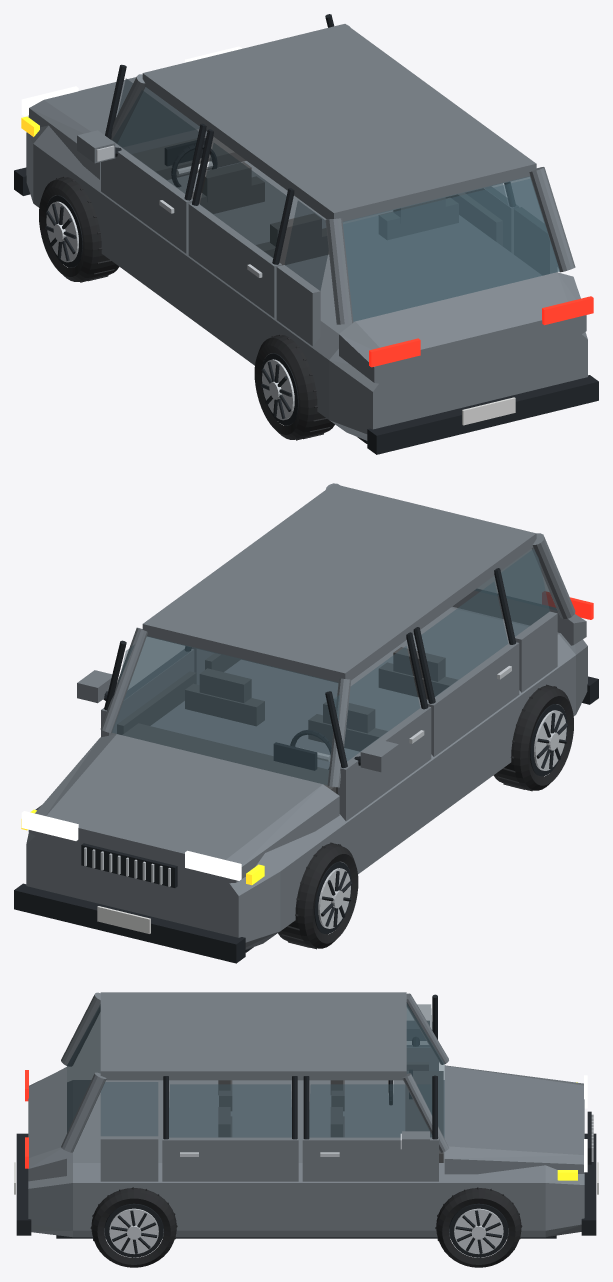
The model's file is suv.glb.
3 renders of one model, top to bottom at view 1: azimuth 30°, elevation 25°; view 2: azimuth 150°, elevation 25°; view 3: azimuth 270°, elevation 25°, orthographic. The views are drawn at different scales.
Parts seen in each view (by area): view 1: Body, Door_Hatch, Door_FL, Door_RL, Wheel_RL, Wheel_FL, Door_RR; view 2: Body, Door_RL, Door_FL, Door_FR, Wheel_FL, Wheel_RL, Door_Hatch, Door_RR; view 3: Body, Door_RR, Door_FR, Wheel_RR, Wheel_FR, Door_Hatch, Door_FL.
Part boxes in pixels (<box>): Body: <box>14,24,598,454</box>; Door_Hatch: <box>343,179,559,321</box>; Door_FL: <box>77,64,206,253</box>; Door_RL: <box>188,129,294,317</box>; Wheel_RL: <box>254,334,334,440</box>; Wheel_FL: <box>39,176,119,282</box>; Door_RR: <box>446,182,513,253</box>; Body: <box>14,483,598,963</box>; Door_RL: <box>413,568,519,756</box>; Door_FL: <box>325,632,431,821</box>; Door_FR: <box>77,637,196,737</box>; Wheel_FL: <box>278,842,358,949</box>; Wheel_RL: <box>493,684,573,791</box>; Door_Hatch: <box>474,549,557,610</box>; Door_RR: <box>192,647,240,684</box>; Body: <box>14,992,598,1238</box>; Door_RR: <box>162,1076,298,1181</box>; Door_FR: <box>302,1075,438,1181</box>; Wheel_RR: <box>90,1187,177,1267</box>; Wheel_FR: <box>435,1187,522,1267</box>; Door_Hatch: <box>67,1007,100,1131</box>; Door_FL: <box>406,994,438,1070</box>.
Size of what is drawn, in the model's own units: 2.5 by 1.83 by 5.21.
